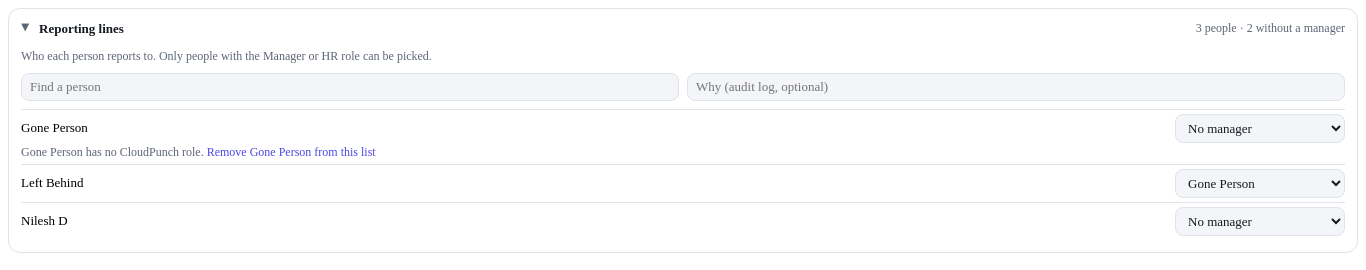
Test: Reporting lines › someone left without a role can be taken off the list; their reports are named
Click the button "Remove Gone Person from this list" at (291,152), box x1=207 y1=145 x2=376 y2=160
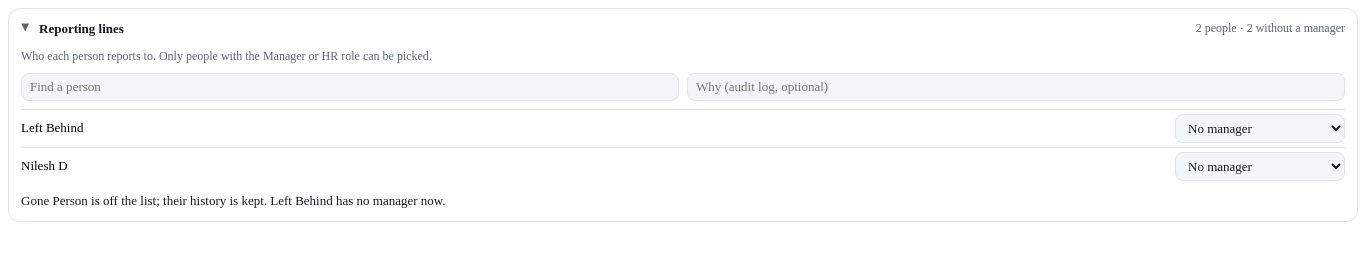
Expected: the text "Gone Person is off the list; their history is kept. Left Behind has no manager now." is shown, x1=21 y1=193 x2=446 y2=208
